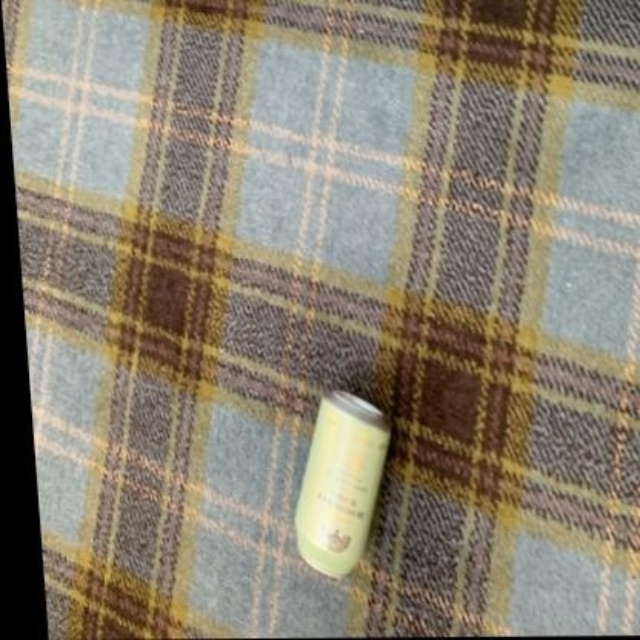trash: (295, 391, 389, 577)
